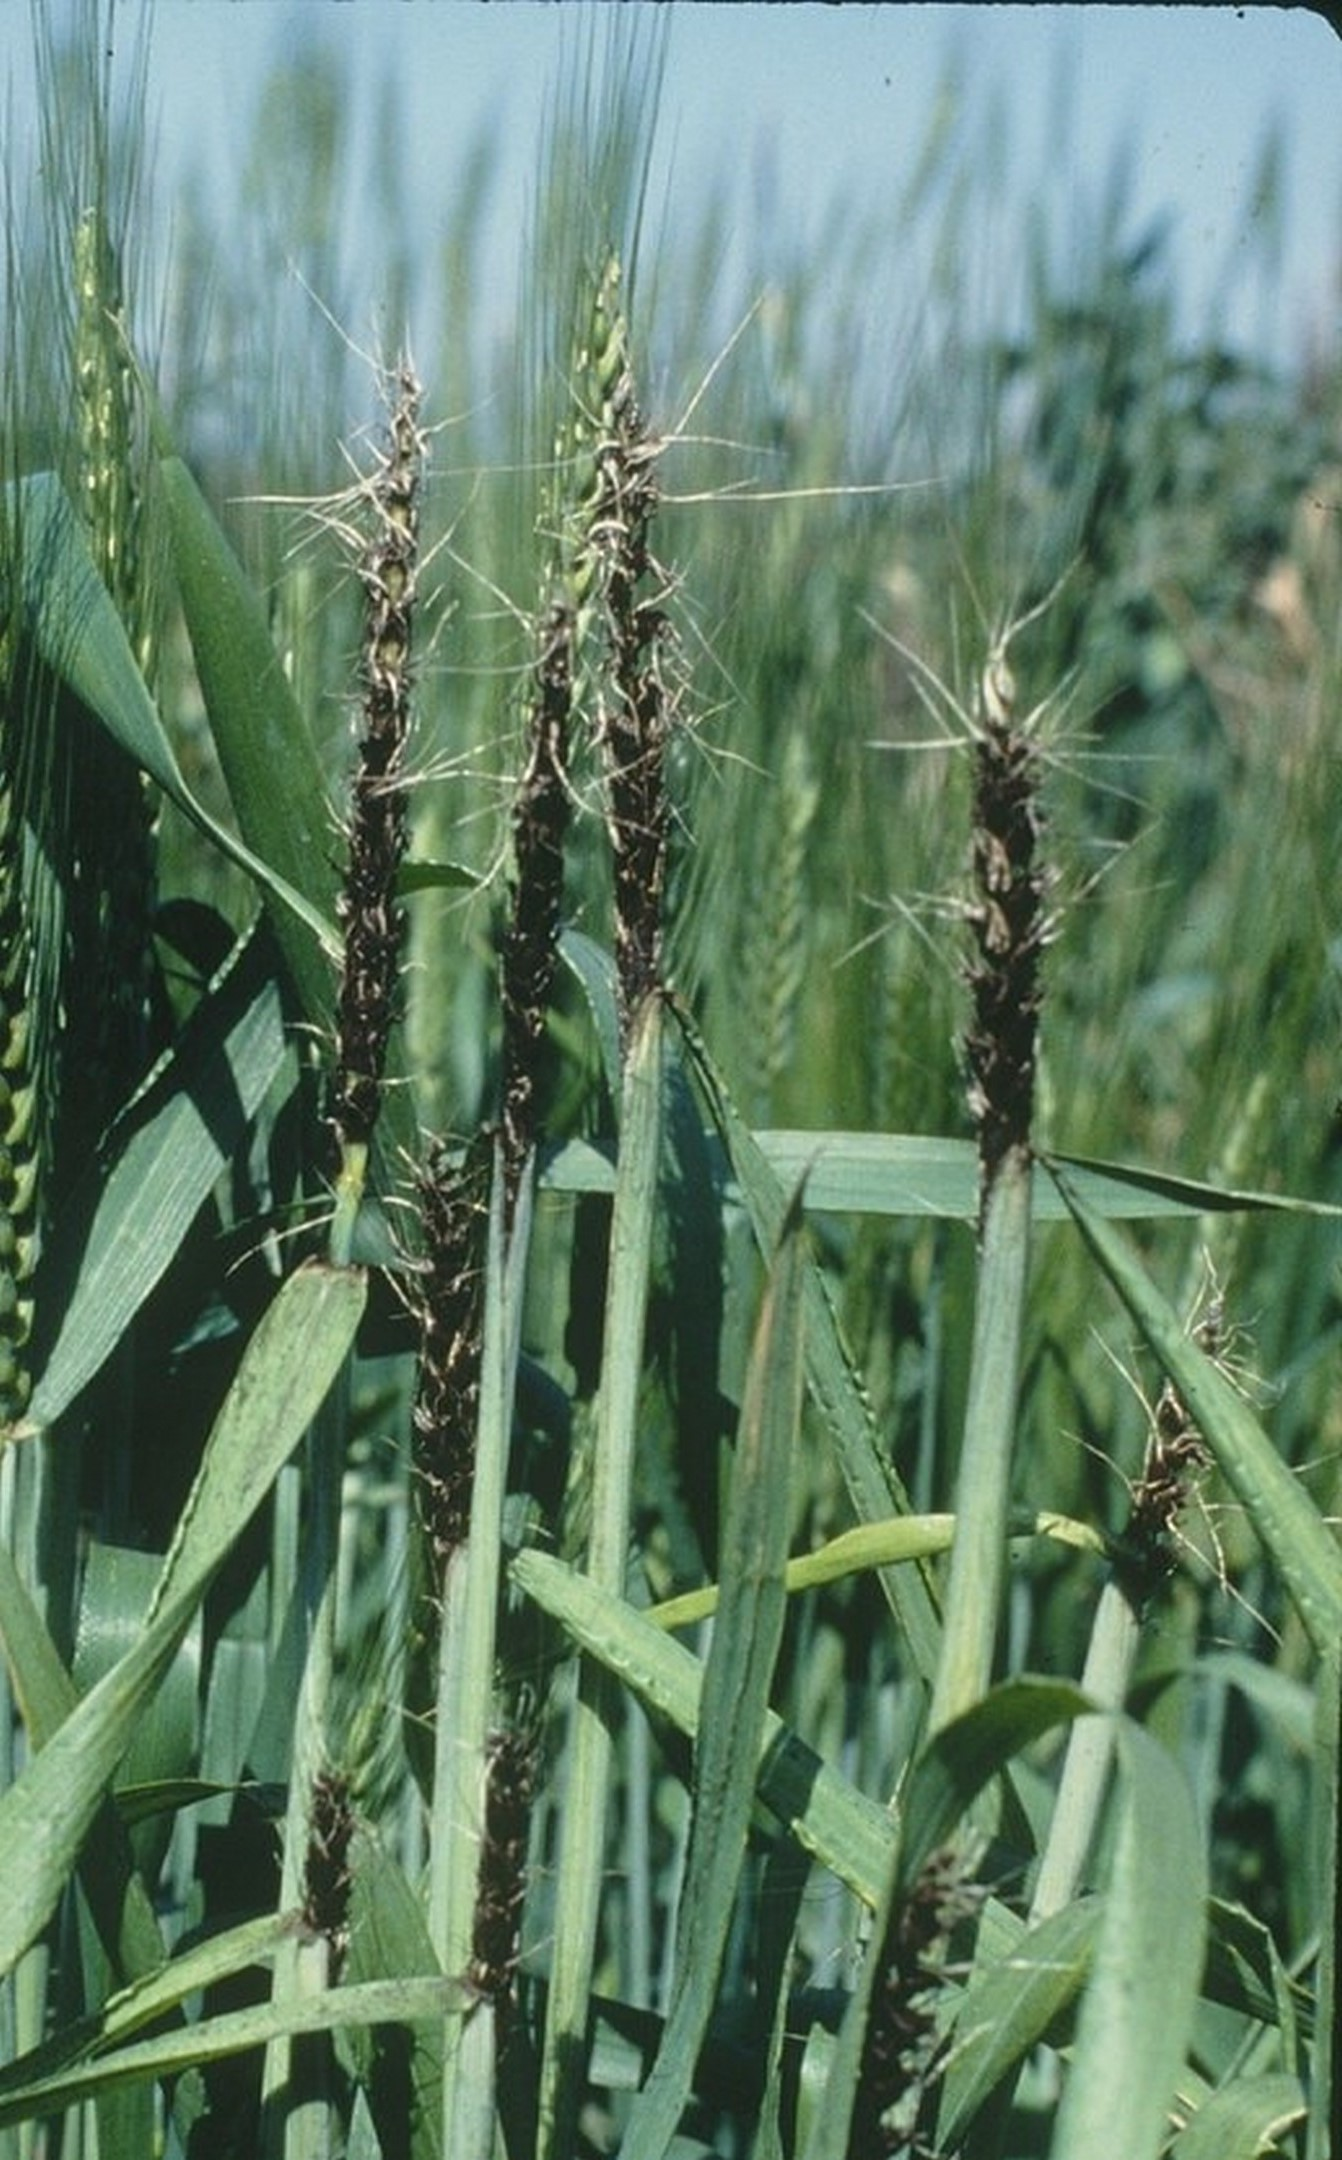Wheat Loose Smut: (257, 363, 719, 1146), (901, 649, 1105, 1163)
